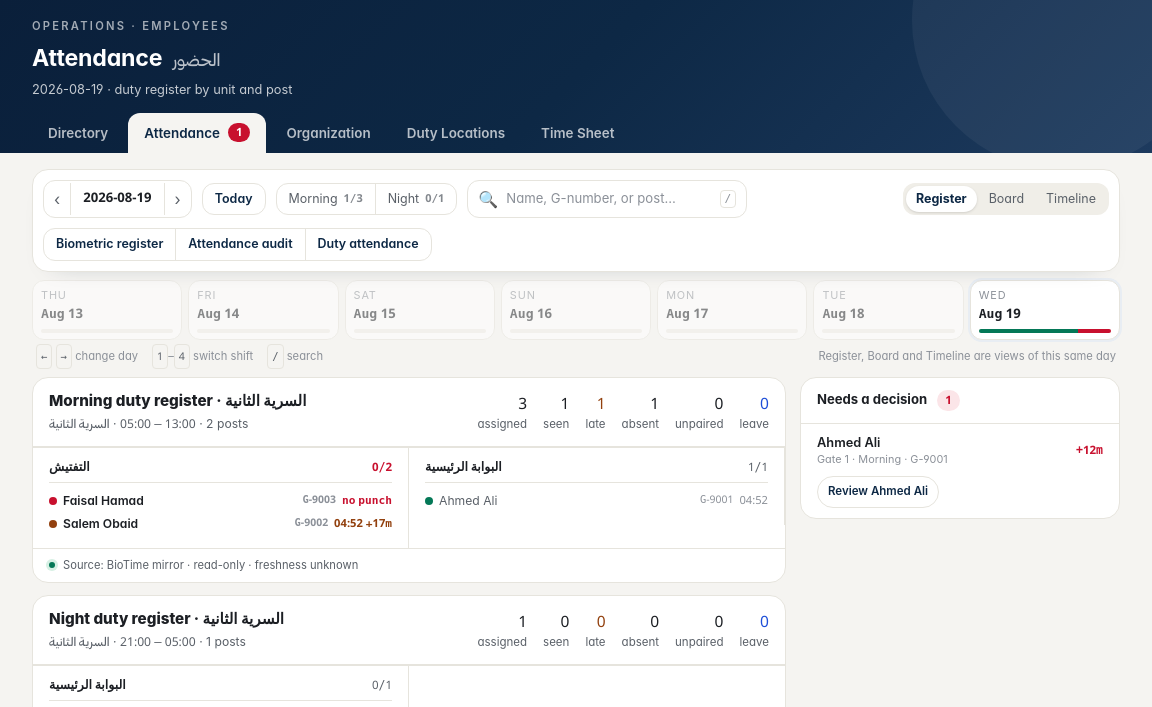
AttendancePage › filters to one shift and keeps the request count at one
Click the button "Morning 1/3" at (326, 199), box [276, 184, 376, 214]
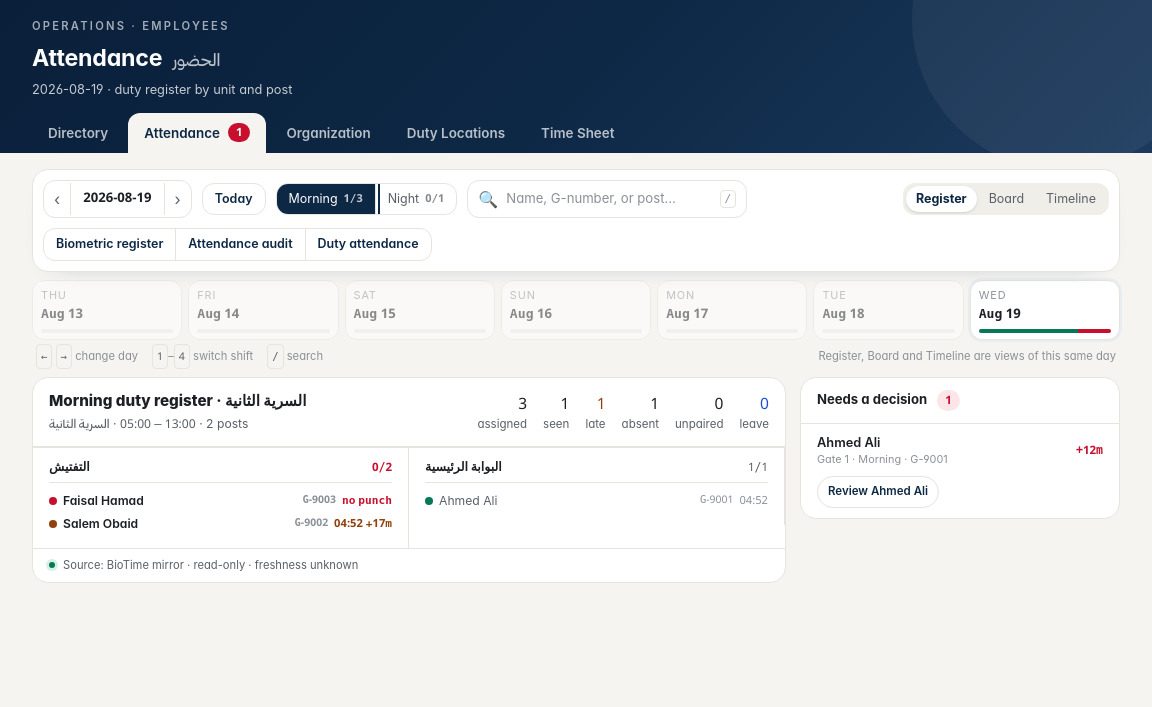
Check: the number of elements with test id "attendance-register-unit" is 1, box [32, 377, 786, 583]
